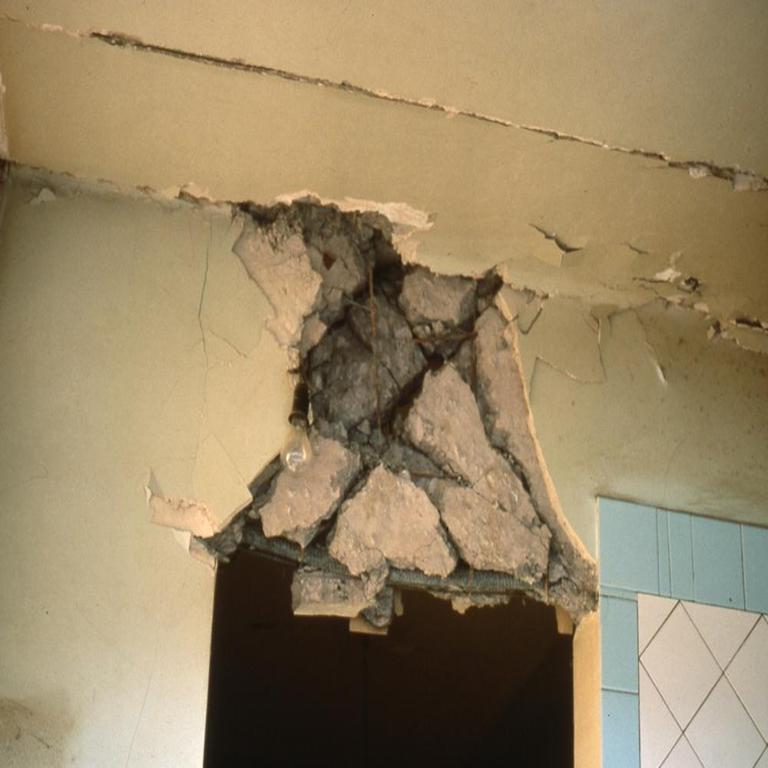crack: (85, 30, 768, 192), (9, 162, 253, 211), (377, 283, 478, 371), (469, 486, 549, 552), (287, 304, 354, 380), (346, 320, 402, 398), (398, 435, 468, 486), (199, 218, 213, 364), (510, 305, 544, 336)
damage: (205, 201, 597, 629)
